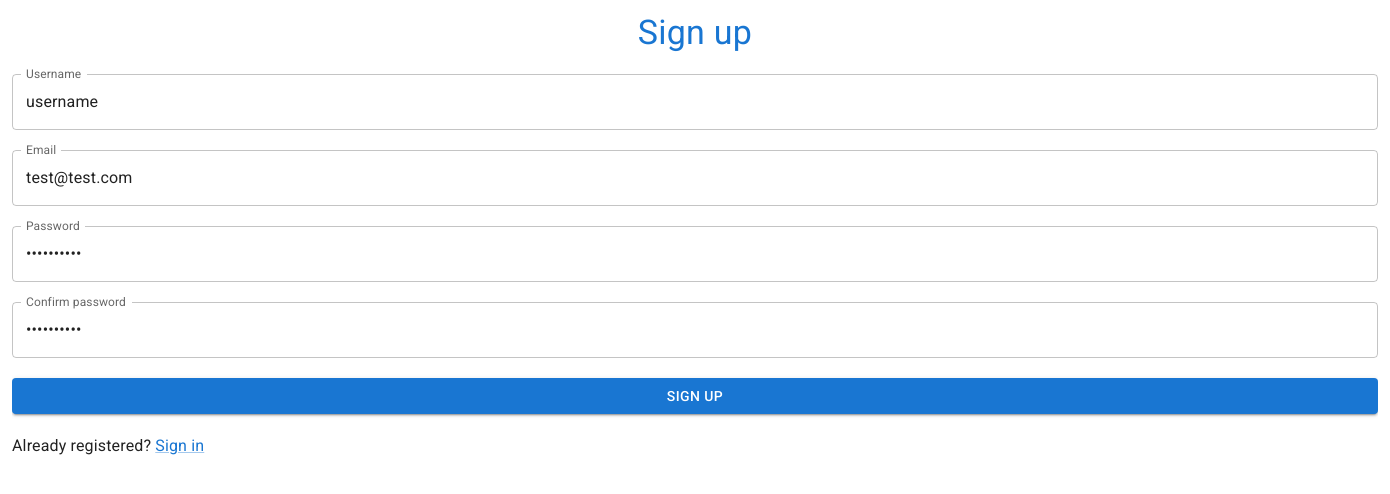
Test case: register form › should display success message when submitting form with valid data
The image size is (1390, 494).
Expected: the text "sign up completed!" is not shown
// Submit form
Click the button "Sign up" at point(695, 396), box [12,378,1378,414]
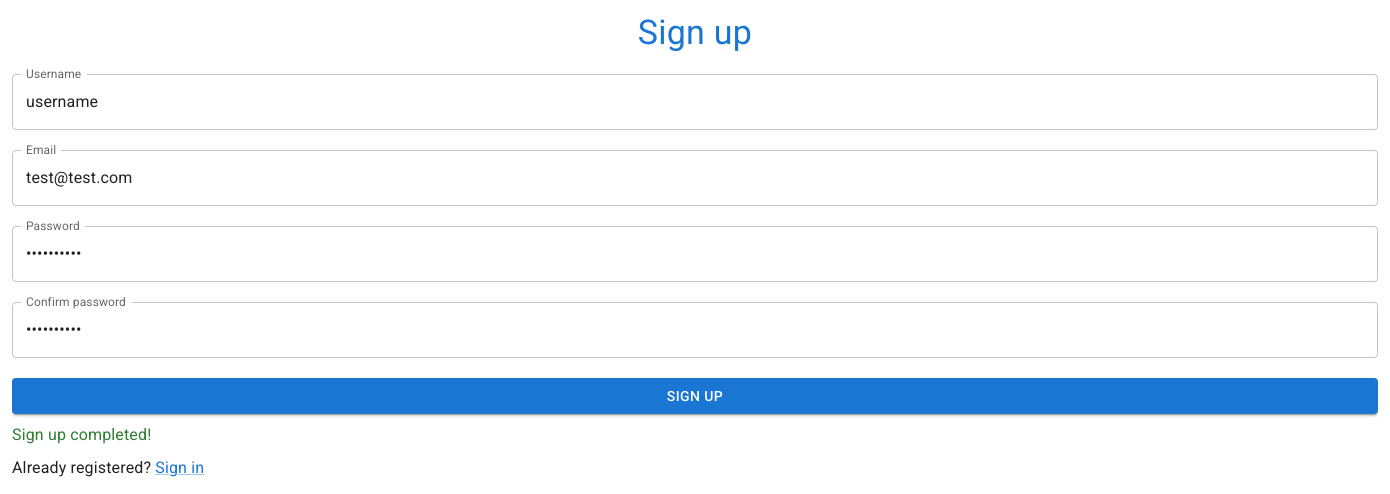
Result: the text "Sign up completed!" is shown at [12,426,151,444]
